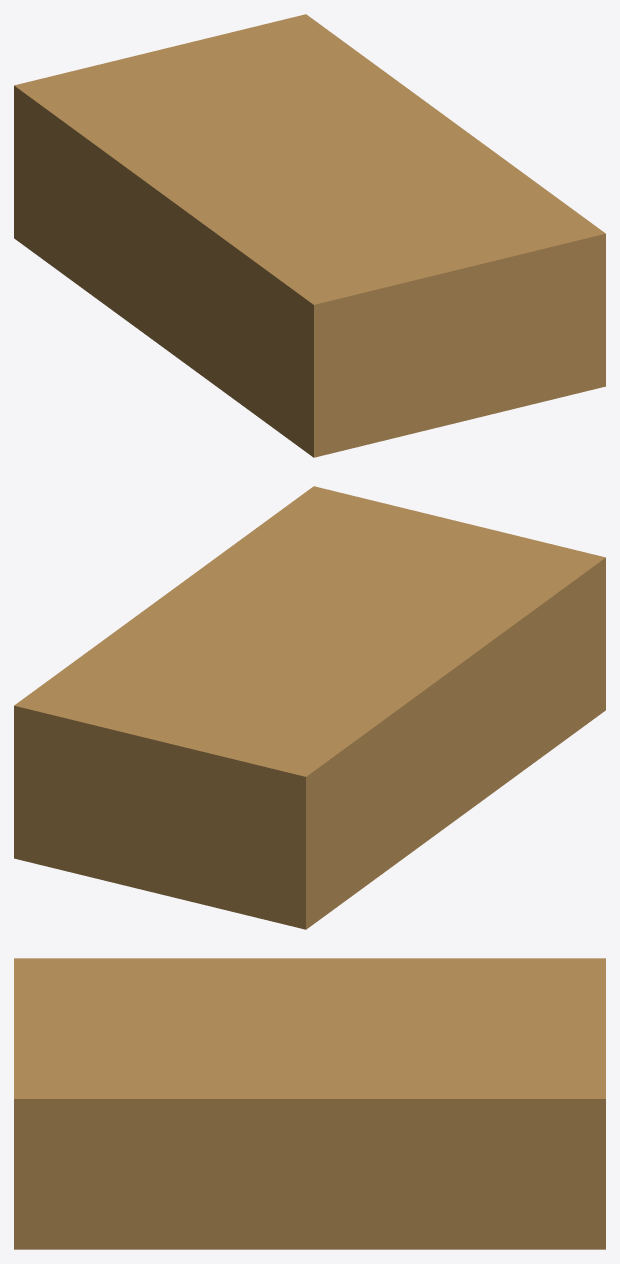
3 renders of one model, top to bottom at view 1: azimuth 30°, elevation 25°; view 2: azimuth 150°, elevation 25°; view 3: azimuth 270°, elevation 25°, orthographic.
Parts seen in each view (by area): view 1: __delivery_mesh_5327; view 2: __delivery_mesh_5327; view 3: __delivery_mesh_5327.
Boxes of the visible parts, bbox=[...] form: __delivery_mesh_5327: bbox=[14, 14, 605, 457]; __delivery_mesh_5327: bbox=[14, 486, 605, 929]; __delivery_mesh_5327: bbox=[14, 958, 605, 1249].
Size of the model in its own units: 0.09 by 0.045 by 0.16.
